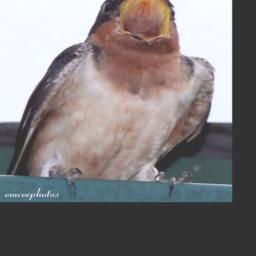Swallow: (8, 0, 216, 196)
